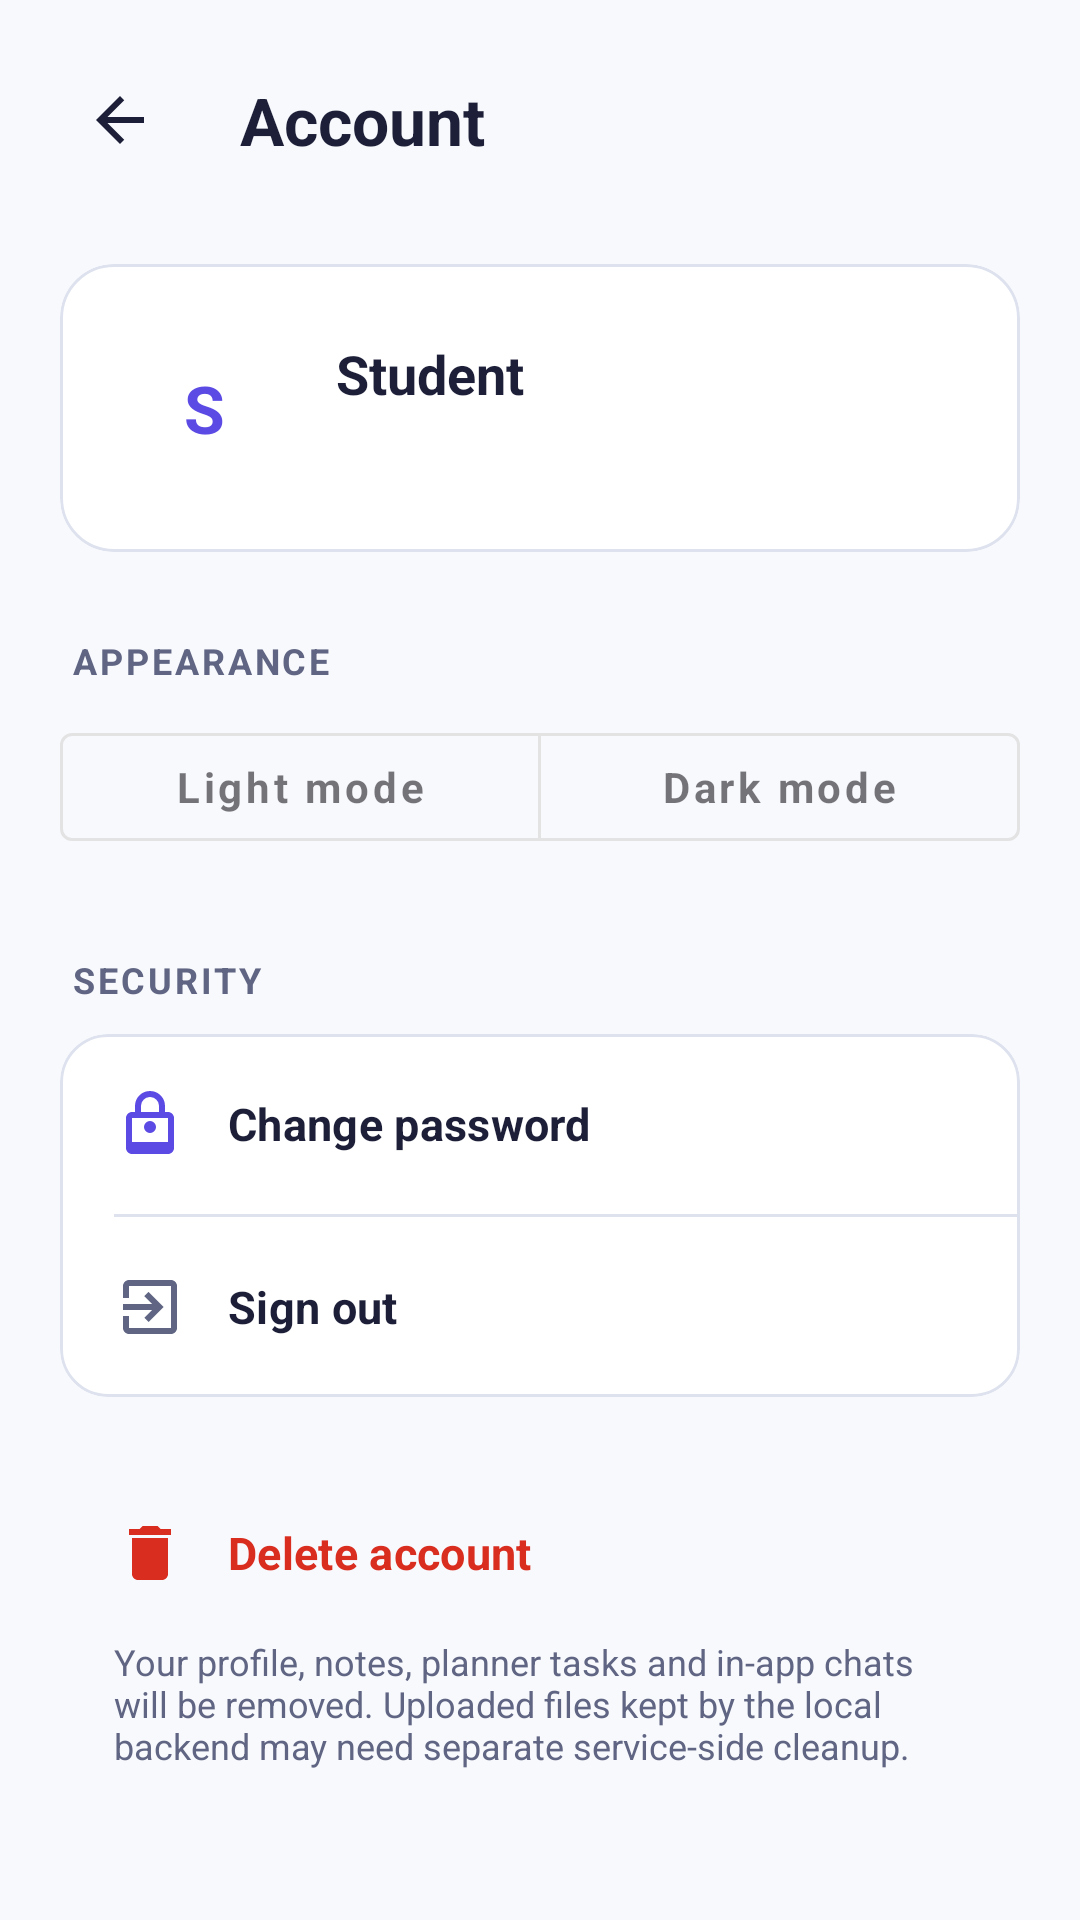

Icons on this 1080 × 1920 Android screen, each with its box as bbox=(x1, y1, x2, y2):
Go back: bbox=(96, 96, 144, 144)
